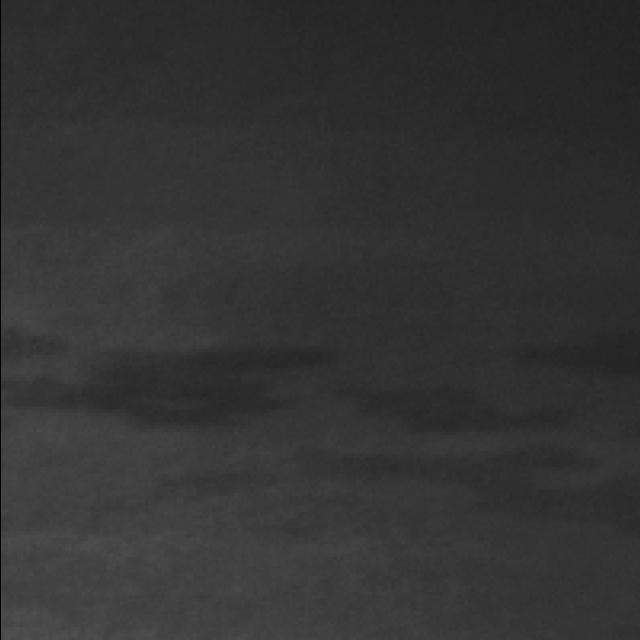inclusion: (324, 337, 632, 446), (0, 346, 320, 442), (464, 448, 640, 529)
